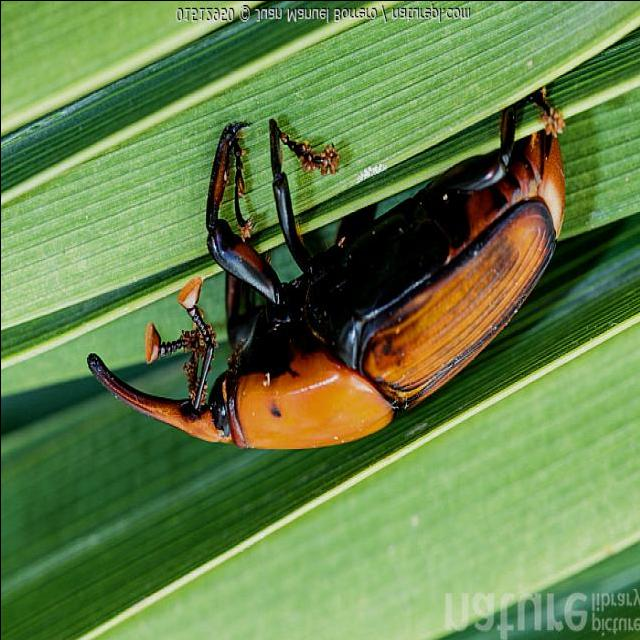Red-palm-weevil: (82, 135, 564, 448)
